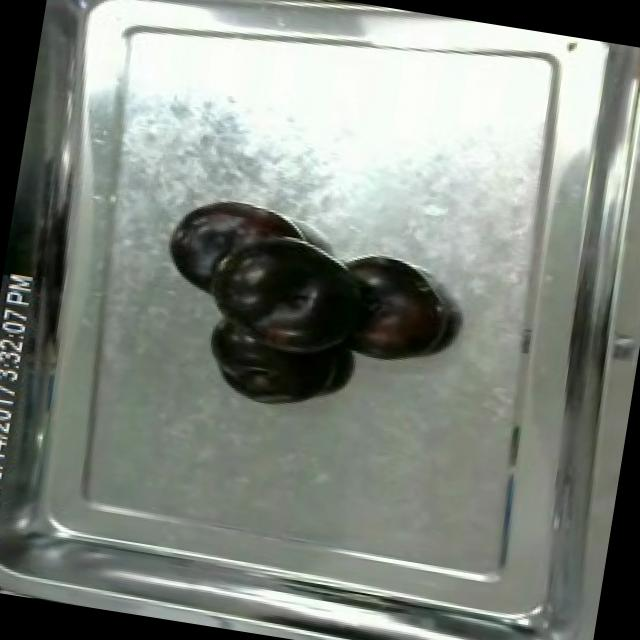Fruit: (325, 252, 458, 372), (612, 44, 640, 113)
